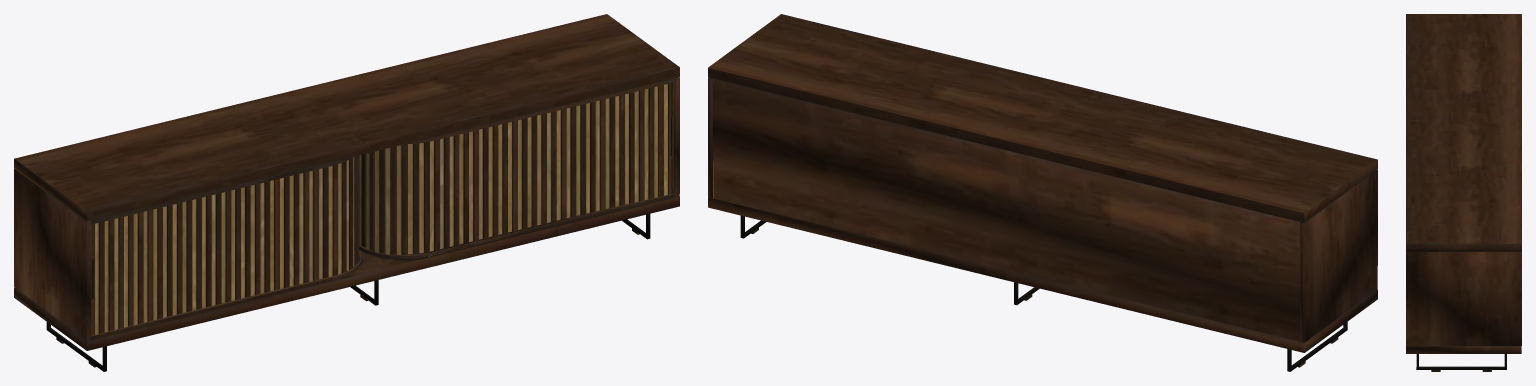
The model's file is modern_wooden_cabinet.glb.
3 renders of one model, left to right at view 1: azimuth 30°, elevation 25°; view 2: azimuth 150°, elevation 25°; view 3: azimuth 270°, elevation 25°, orthographic. The views are drawn at different scales.
Visible parts, largest first — view 1: modern_wooden_cabinet_door_l, modern_wooden_cabinet_body_lo, modern_wooden_cabinet_body; view 2: modern_wooden_cabinet_body, modern_wooden_cabinet_body_lo; view 3: modern_wooden_cabinet_body_lo, modern_wooden_cabinet_body.
Boxes of the visible parts, x1,y1,x2,y2 form: modern_wooden_cabinet_door_l: (91, 82, 673, 335); modern_wooden_cabinet_body_lo: (14, 14, 679, 371); modern_wooden_cabinet_body: (14, 67, 679, 371); modern_wooden_cabinet_body: (708, 68, 1377, 367); modern_wooden_cabinet_body_lo: (708, 14, 1377, 371); modern_wooden_cabinet_body_lo: (1406, 14, 1521, 353); modern_wooden_cabinet_body: (1406, 14, 1521, 371).
Size of the model in its own units: 2.44 by 0.6802 by 0.5201.
Materials: 1 (1 with a texture image).
